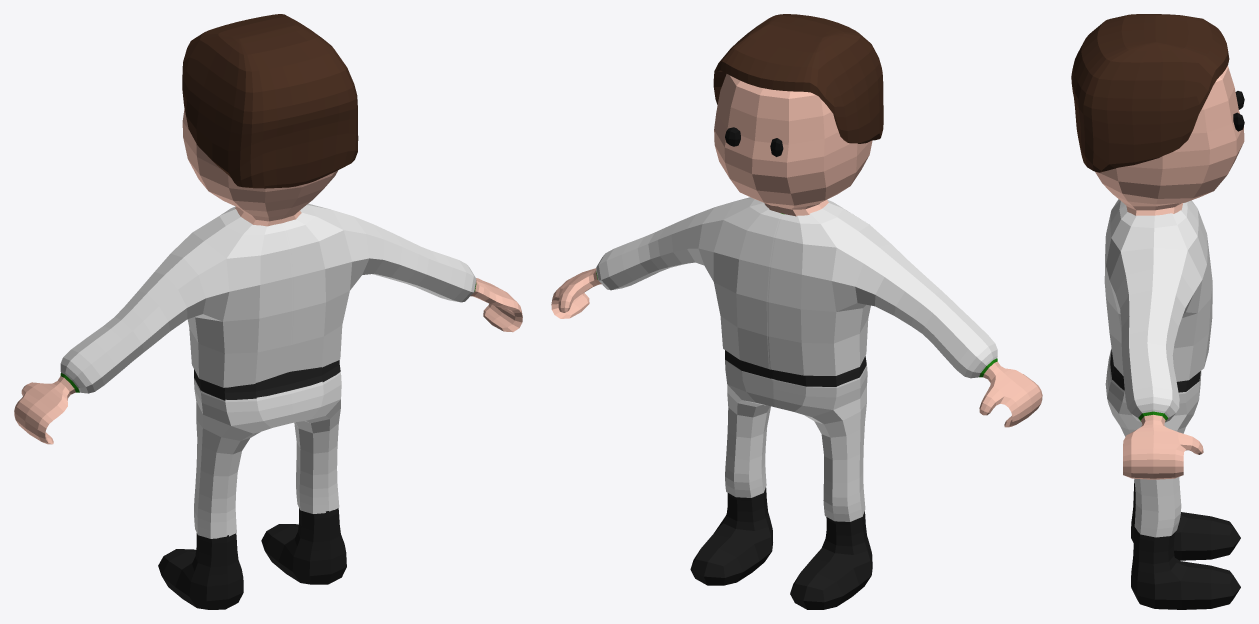
Rendered from ArmyCharacter2.fbx.
3 views of the same model, side by side, from view 1: azimuth 30°, elevation 25°; view 2: azimuth 150°, elevation 25°; view 3: azimuth 270°, elevation 25° (orthographic). The views are drawn at different scales.
Parts seen in each view (by area): view 1: Character 3, army clothes, Army pin; view 2: Character 3, army clothes, Army pin; view 3: Character 3, army clothes, Army pin.
Boxes of the visible parts, x1,y1,x2,y2 form: Character 3: (14,14,522,609); army clothes: (60,203,476,393); Army pin: (194,372,341,538); Character 3: (551,14,1042,609); army clothes: (596,197,997,378); Army pin: (725,360,867,521); Character 3: (1071,14,1244,609); army clothes: (1104,199,1212,422); Army pin: (1105,348,1201,537).
Size of the model in its own units: 1.66 by 1.5 by 0.4725.
Materials: 3 (1 with a texture image).
